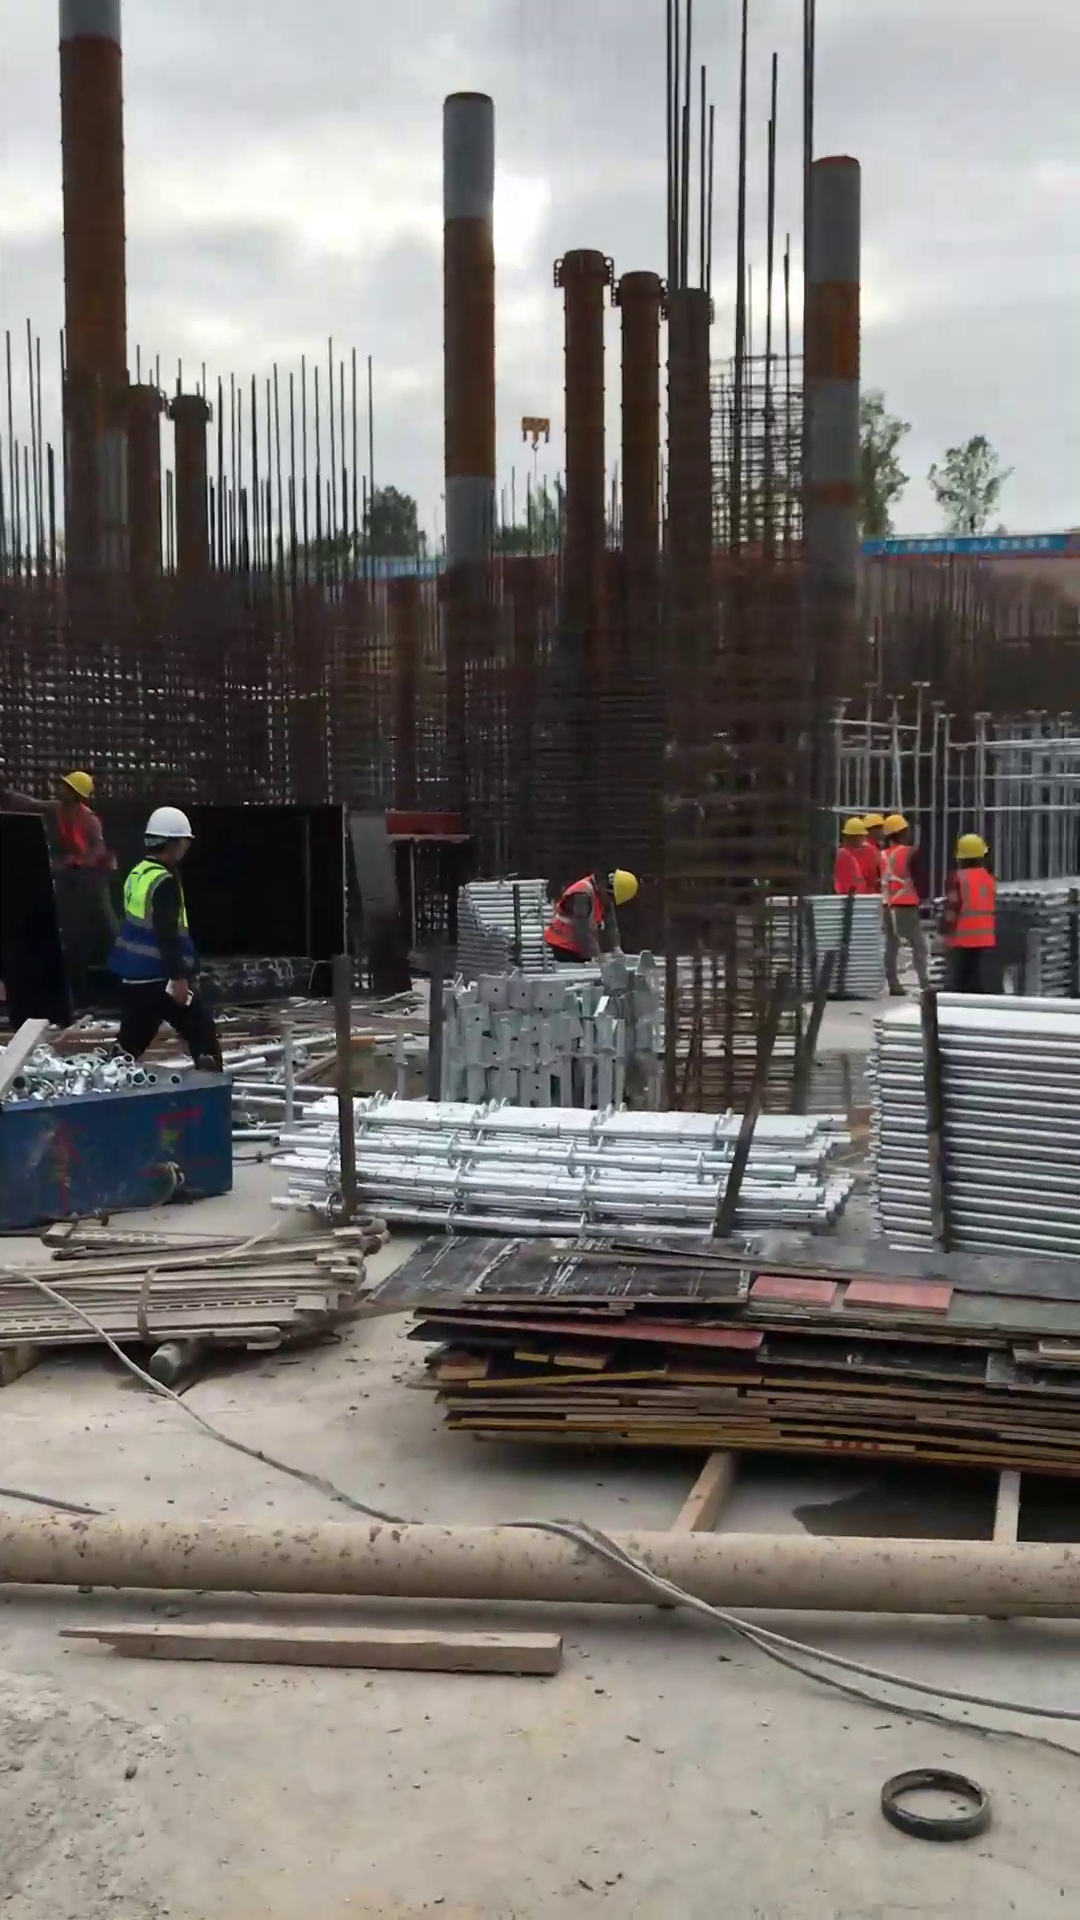helmet: (140, 800, 204, 851), (950, 826, 993, 869), (607, 864, 643, 911), (55, 768, 97, 804), (882, 808, 917, 840), (839, 813, 867, 847), (861, 808, 886, 835)
person: (104, 793, 228, 1104), (30, 756, 129, 992), (930, 821, 1014, 1014), (536, 857, 647, 986), (879, 807, 942, 1006), (826, 810, 887, 932), (858, 803, 887, 863)
vest: (111, 856, 204, 1003), (35, 797, 115, 893), (536, 871, 612, 969), (939, 861, 1008, 960), (874, 838, 928, 915), (829, 836, 876, 901)
